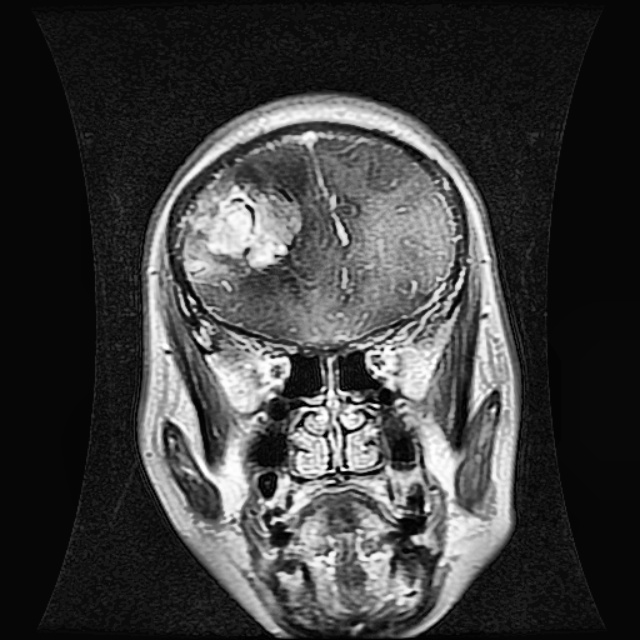Meningioma: (182, 172, 300, 287)
